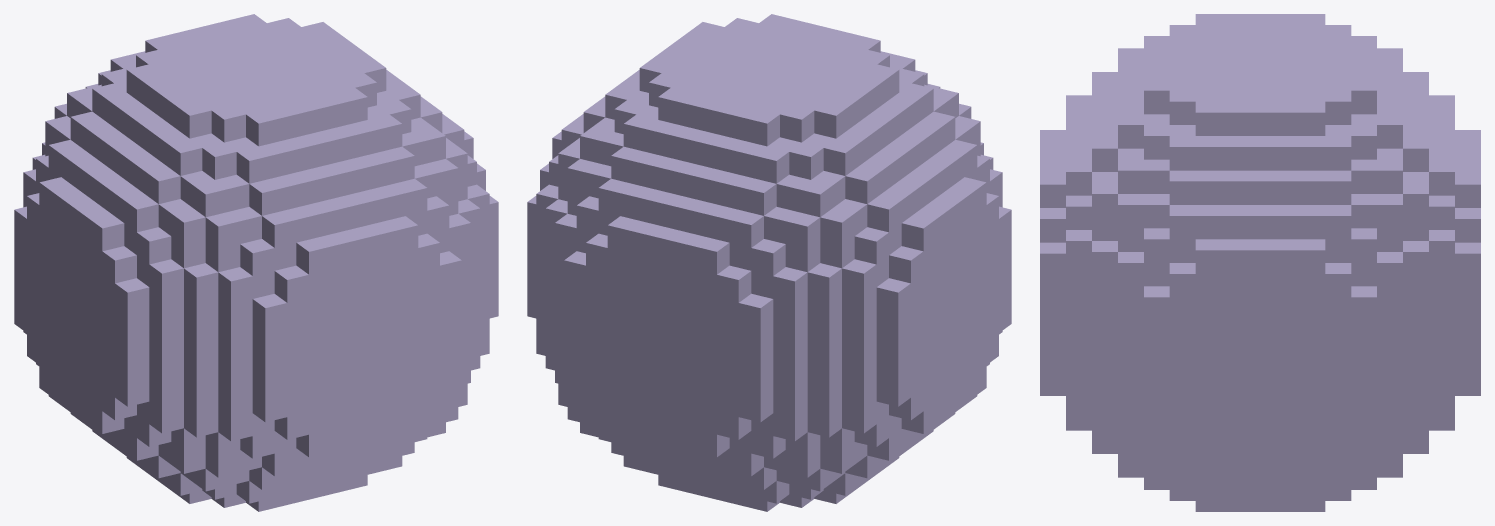
The model's file is BallVox.fbx.
3 views of the same model, side by side, from view 1: azimuth 30°, elevation 25°; view 2: azimuth 150°, elevation 25°; view 3: azimuth 270°, elevation 25° (orthographic). The views are drawn at different scales.
Parts seen in each view (by area): view 1: Sphere_vox; view 2: Sphere_vox; view 3: Sphere_vox.
Boxes of the visible parts, left/top/right/bottom form: Sphere_vox: left=14, top=14, right=498, bottom=511; Sphere_vox: left=527, top=14, right=1011, bottom=511; Sphere_vox: left=1040, top=14, right=1480, bottom=511.
Bounding box in the file's own units: 68 × 68 × 68.
